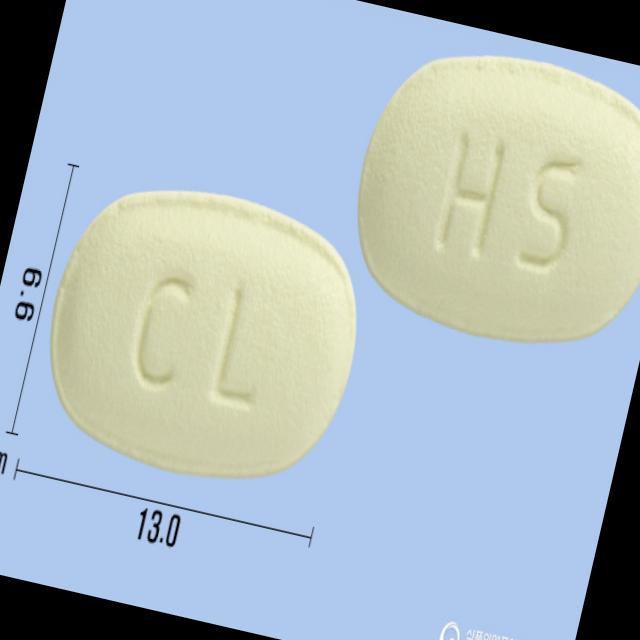Clithro - 500mg: (21, 160, 386, 510), (330, 24, 640, 369)
